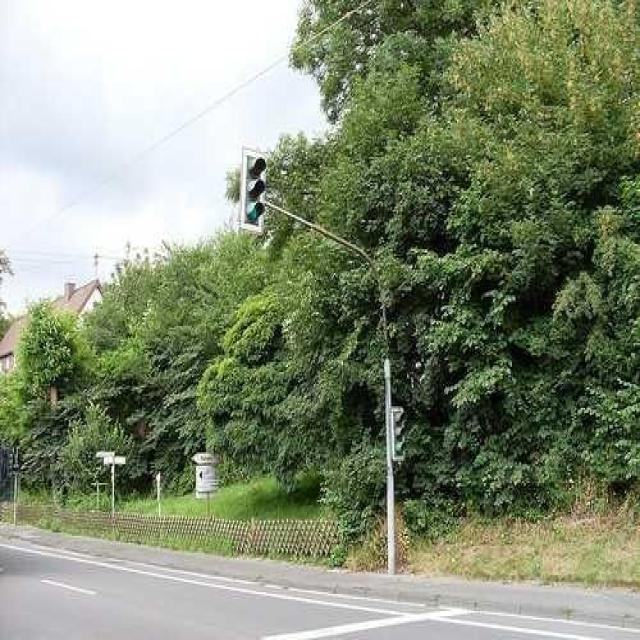Traffic Light -Red-: (238, 150, 269, 229)
